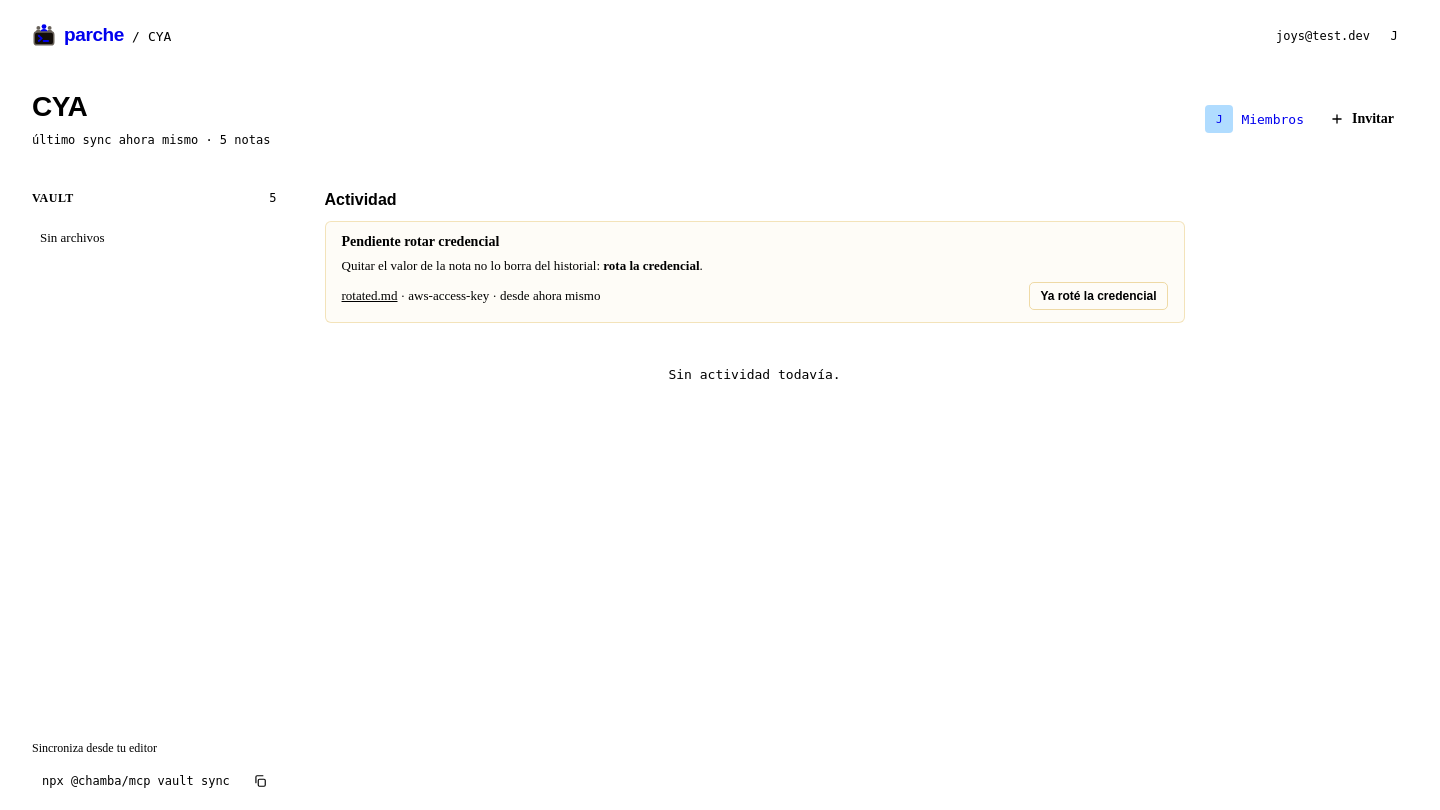
Scenario: DashboardPage › ack on a PENDING-ROTATION finding removes it from view
Expected: the link "rotated.md" is shown, [342, 288, 398, 303]
Click the button "Ya roté la credencial".
click(1099, 296)  # box [1030, 282, 1168, 310]
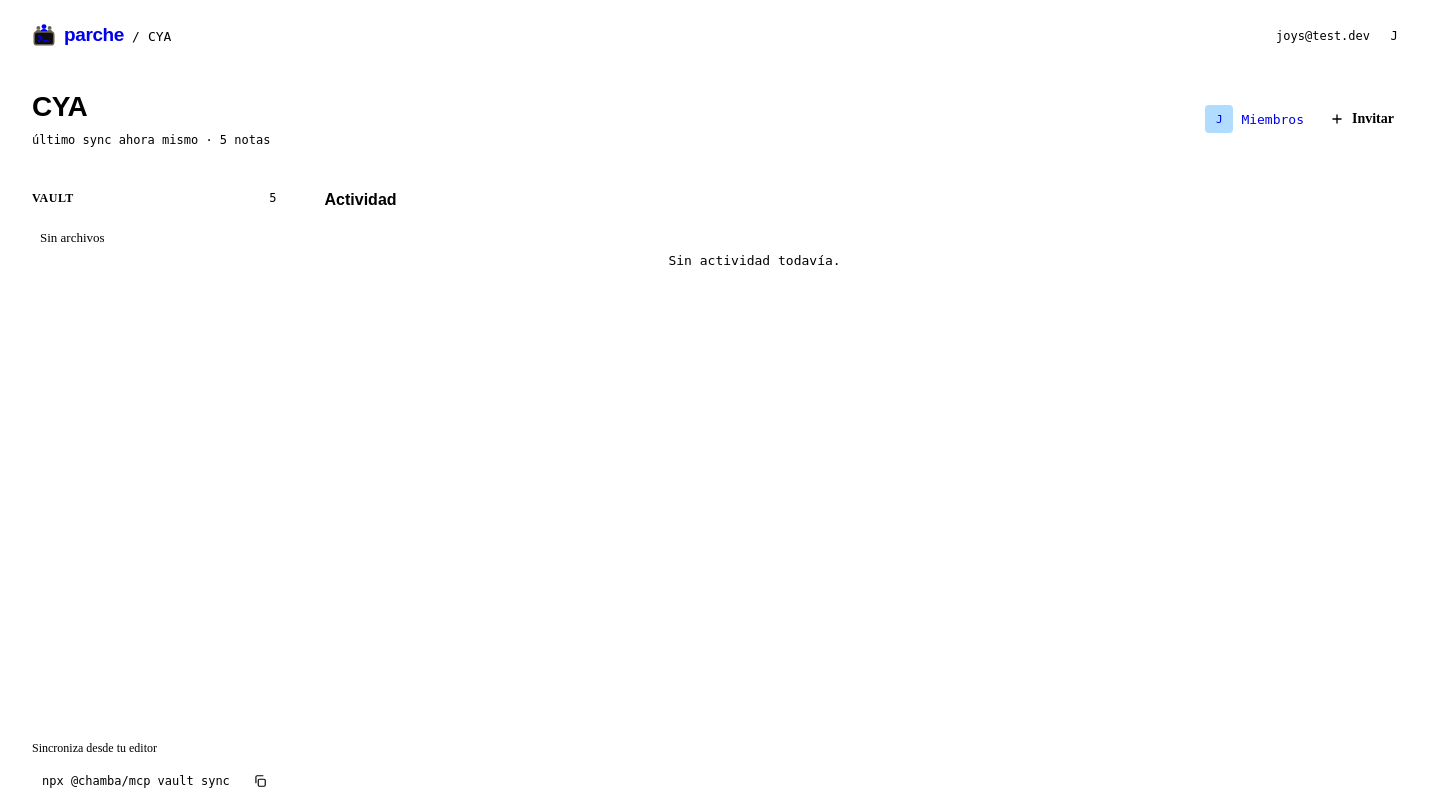
Now the link "rotated.md" is gone
